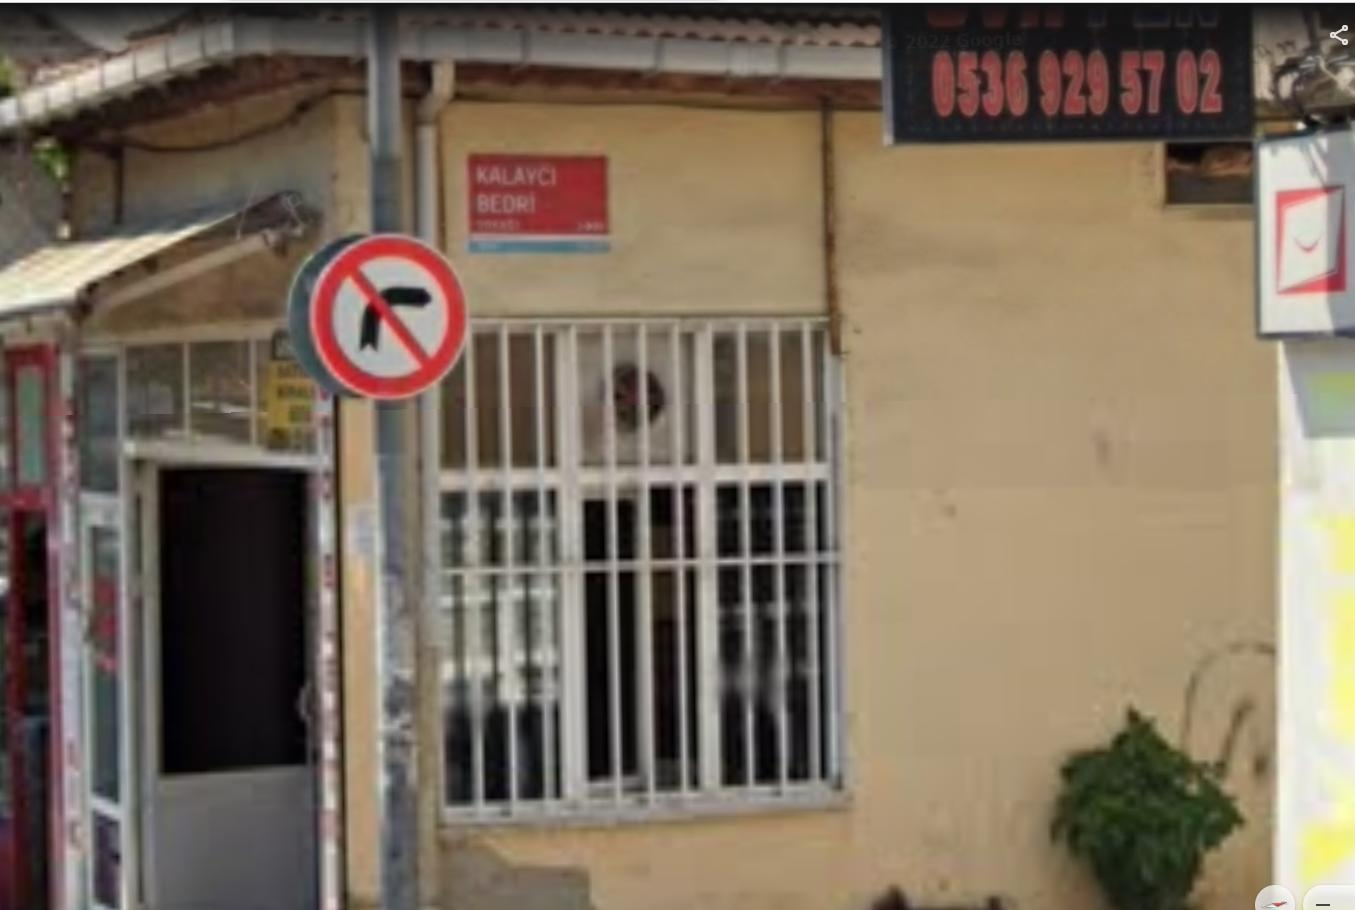rightturnsareforbidden: (317, 239, 460, 380)
